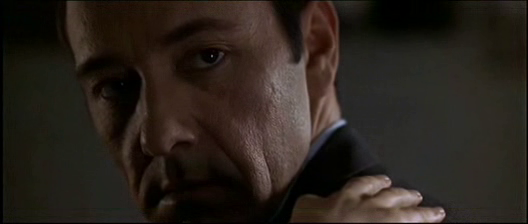ecu: (1, 1, 528, 224)
face: (65, 1, 310, 224)
person: (57, 1, 465, 224)
